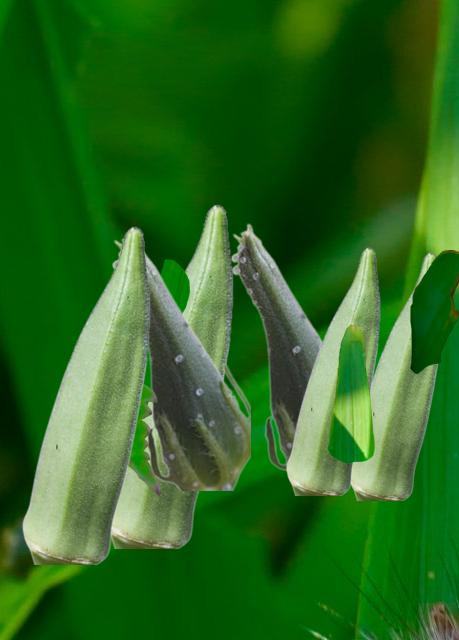okra: (22, 226, 149, 563), (111, 204, 232, 547), (111, 229, 249, 489), (286, 247, 379, 494), (231, 223, 322, 472), (351, 252, 438, 499)
